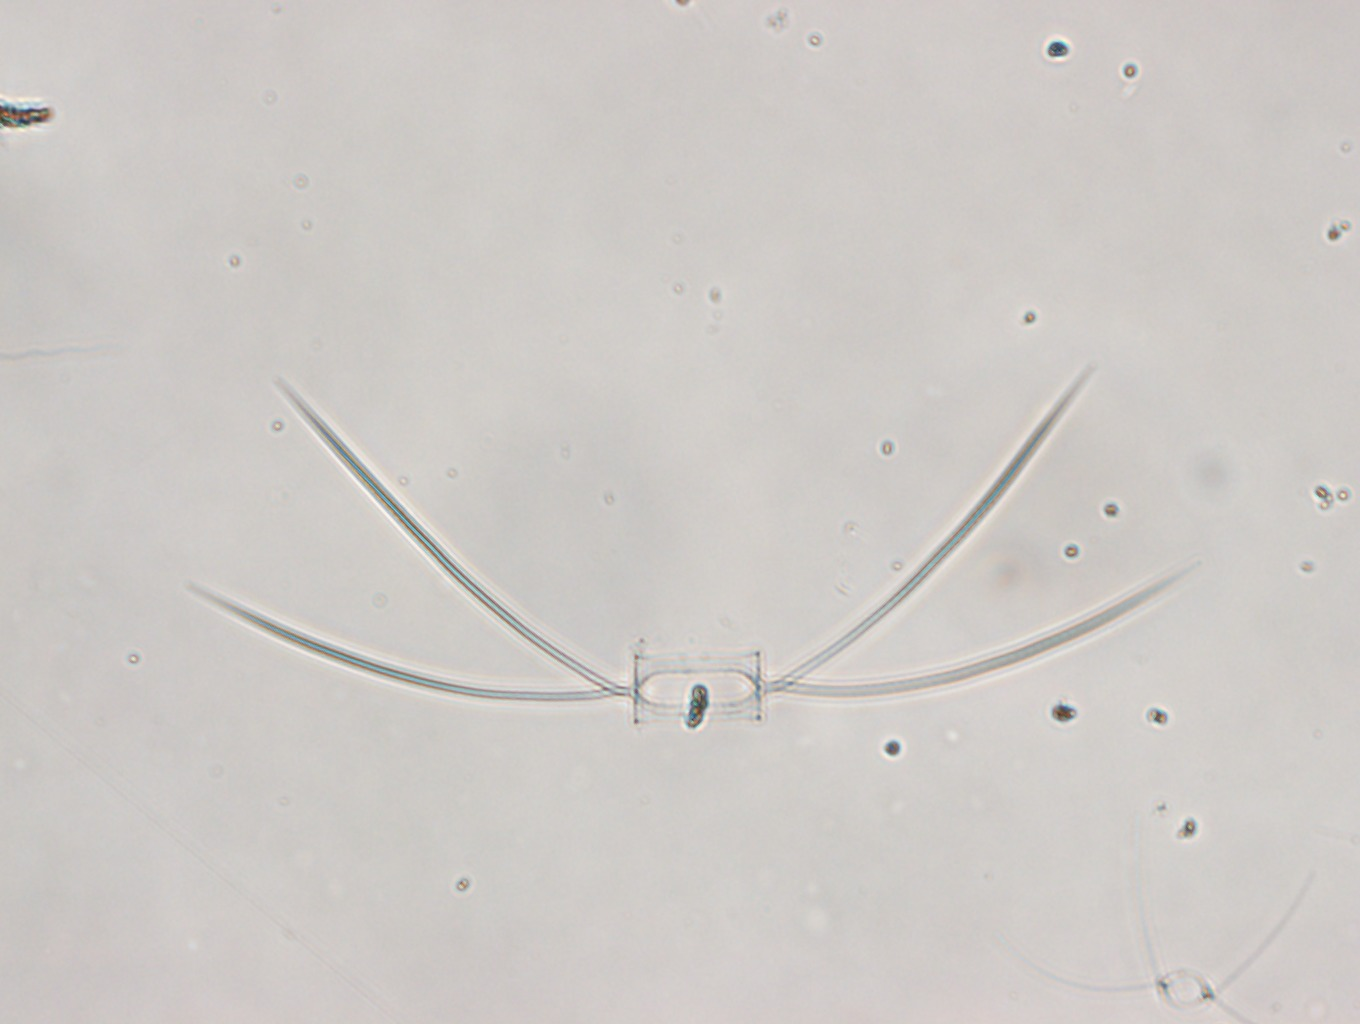chaetoceros: (181, 364, 1201, 733)
